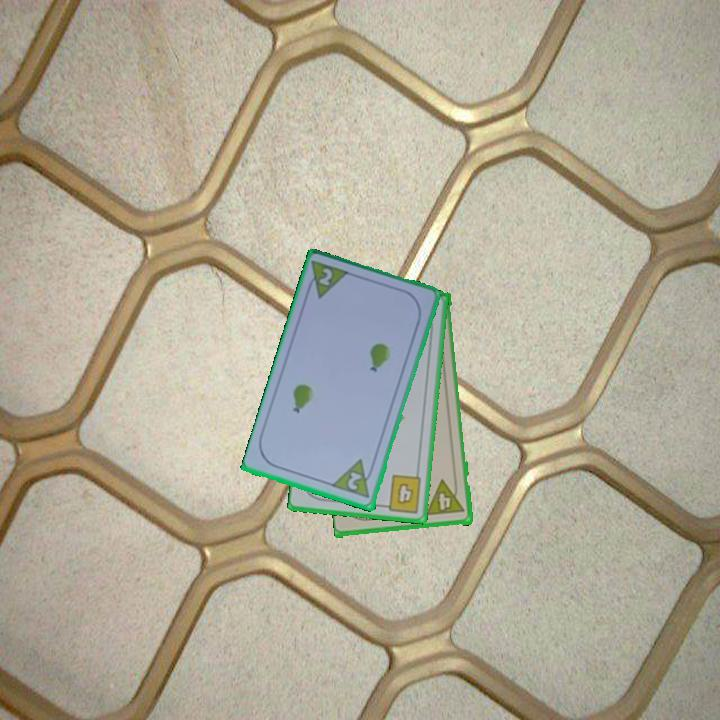2p: (302, 257, 353, 302), (344, 469, 365, 493)
4b: (379, 471, 424, 516)
4p: (423, 476, 468, 519)
